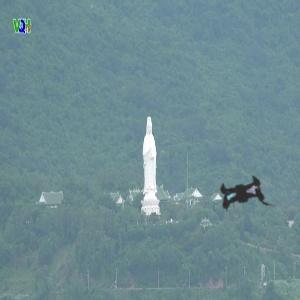drone: (186, 140, 295, 249)
